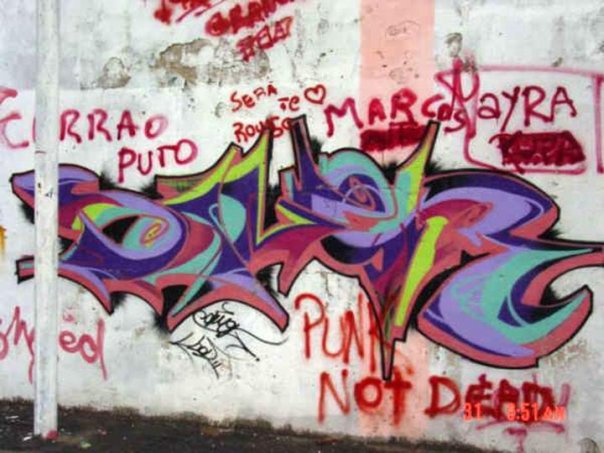graffity: (1, 111, 602, 384), (293, 288, 561, 428), (2, 92, 201, 191), (466, 55, 604, 179), (321, 60, 471, 145), (166, 295, 287, 381), (151, 1, 304, 66), (1, 297, 112, 382), (230, 77, 329, 151)
